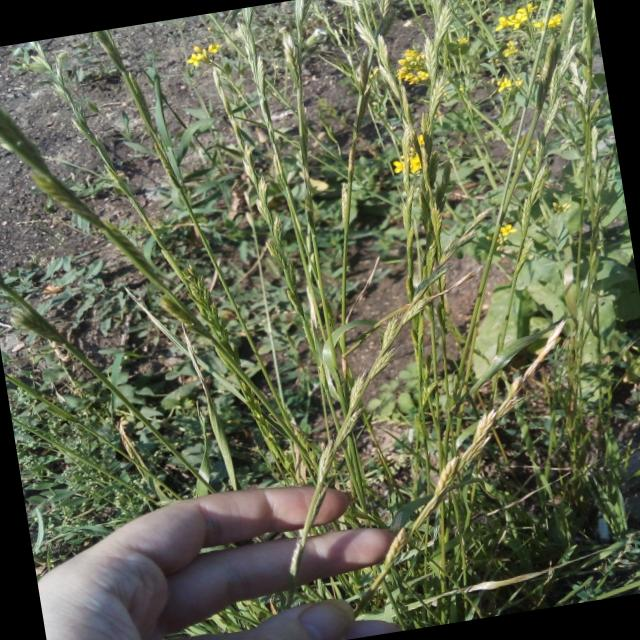Lolium: (29, 16, 357, 631), (0, 42, 325, 511), (312, 0, 547, 629), (416, 0, 640, 613), (202, 4, 382, 630), (89, 11, 304, 502), (314, 320, 610, 614), (0, 211, 228, 525), (244, 290, 470, 604)
